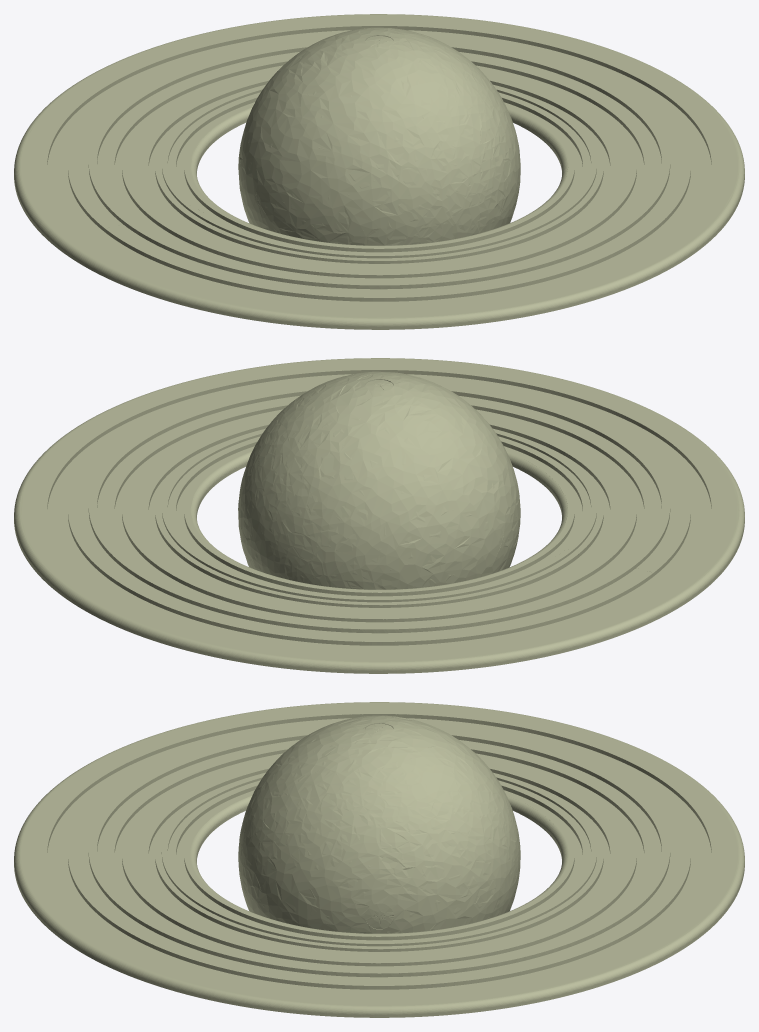
Rendered from planetRing.obj.
The picture shows the model from 3 angles, top to bottom: view 1: azimuth 30°, elevation 25°; view 2: azimuth 150°, elevation 25°; view 3: azimuth 270°, elevation 25°; orthographic projection.
Parts seen in each view (by area): view 1: obj_0; view 2: obj_0; view 3: obj_0.
Part boxes in pixels (x1,y1,x2,y2): obj_0: (14,14,744,329); obj_0: (14,358,744,673); obj_0: (14,702,744,1017).
Size of the model in its own units: 88 by 34 by 88.
